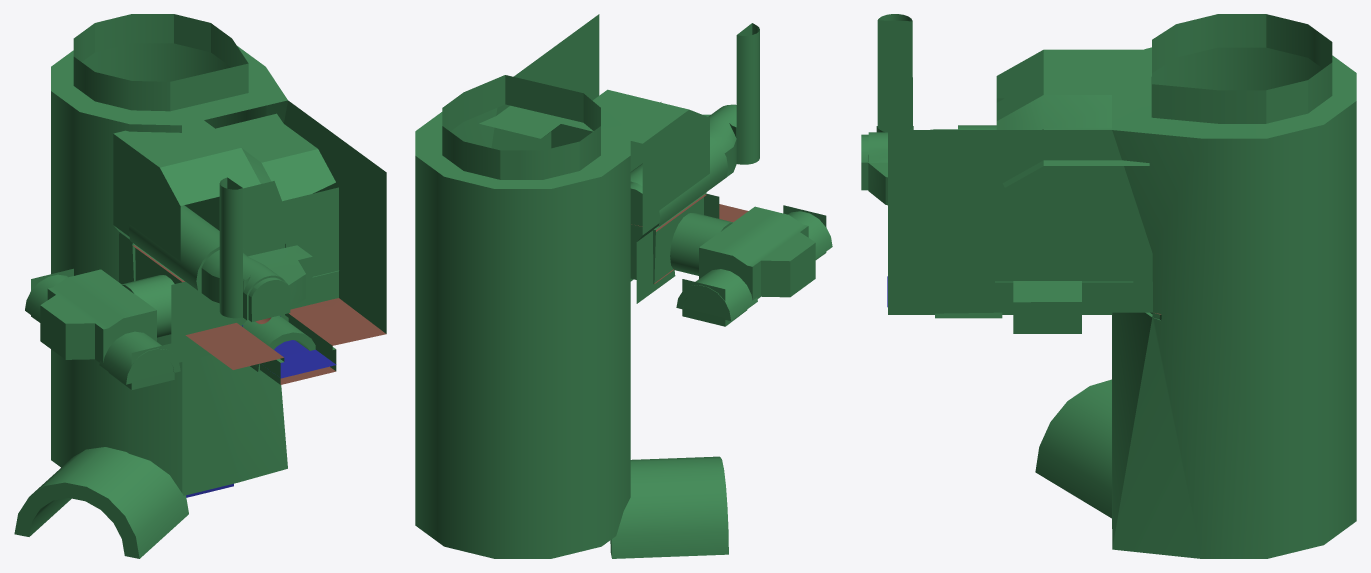
Rendered from M_Playerbase latest.FBX.
3 views of the same model, side by side, from view 1: azimuth 30°, elevation 25°; view 2: azimuth 150°, elevation 25°; view 3: azimuth 270°, elevation 25° (orthographic). The views are drawn at different scales.
Parts seen in each view (by area): view 1: playerbase; view 2: playerbase; view 3: playerbase.
Boxes of the visible parts, x1,y1,x2,y2 form: playerbase: (14, 14, 386, 558); playerbase: (415, 14, 832, 558); playerbase: (861, 14, 1356, 558).
Size of the model in its own units: 1556 by 2038 by 1911.
